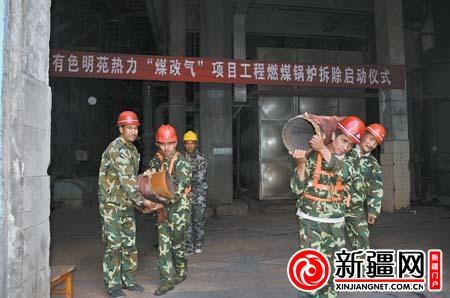helmet: (332, 115, 367, 154), (115, 110, 142, 142), (363, 121, 390, 151), (154, 124, 178, 156), (184, 128, 198, 152)
